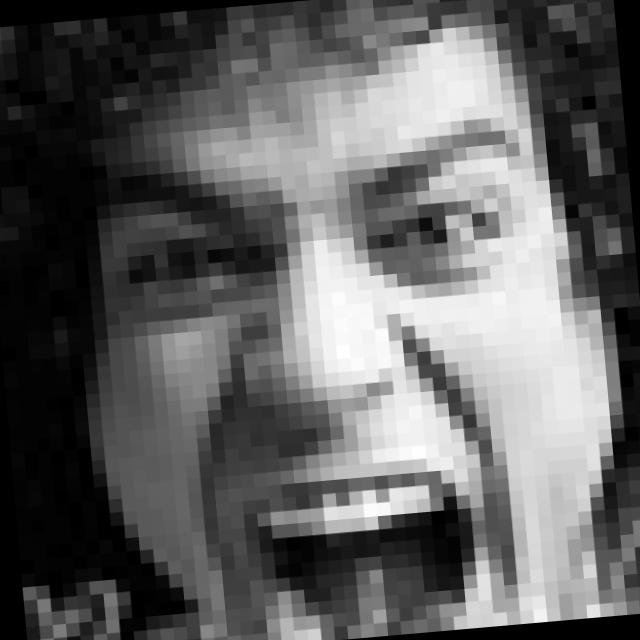angry: (97, 109, 571, 640)
